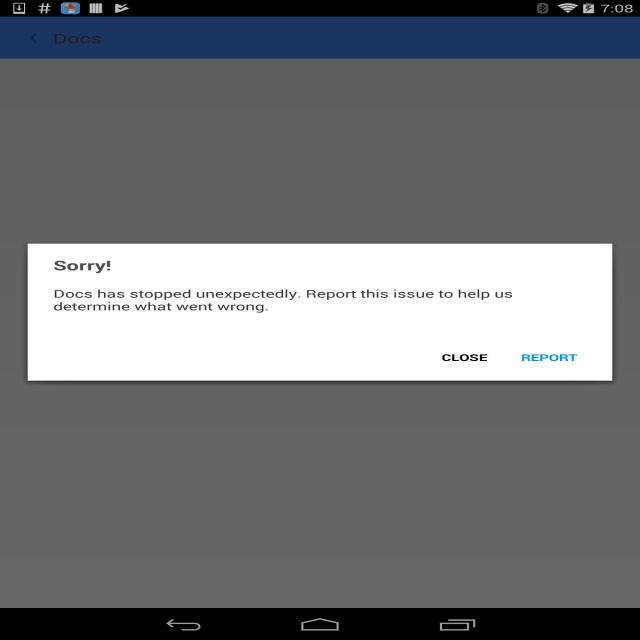button: (514, 348, 584, 367), (436, 349, 494, 366), (21, 28, 44, 50)
heading: (52, 29, 106, 51), (48, 258, 115, 274)
text: (52, 287, 514, 314)
